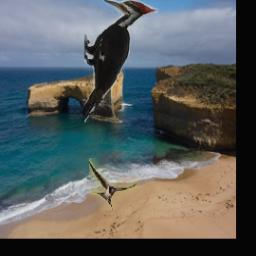Swallow: (89, 159, 138, 211)
Woodpecker: (84, 0, 158, 123)
